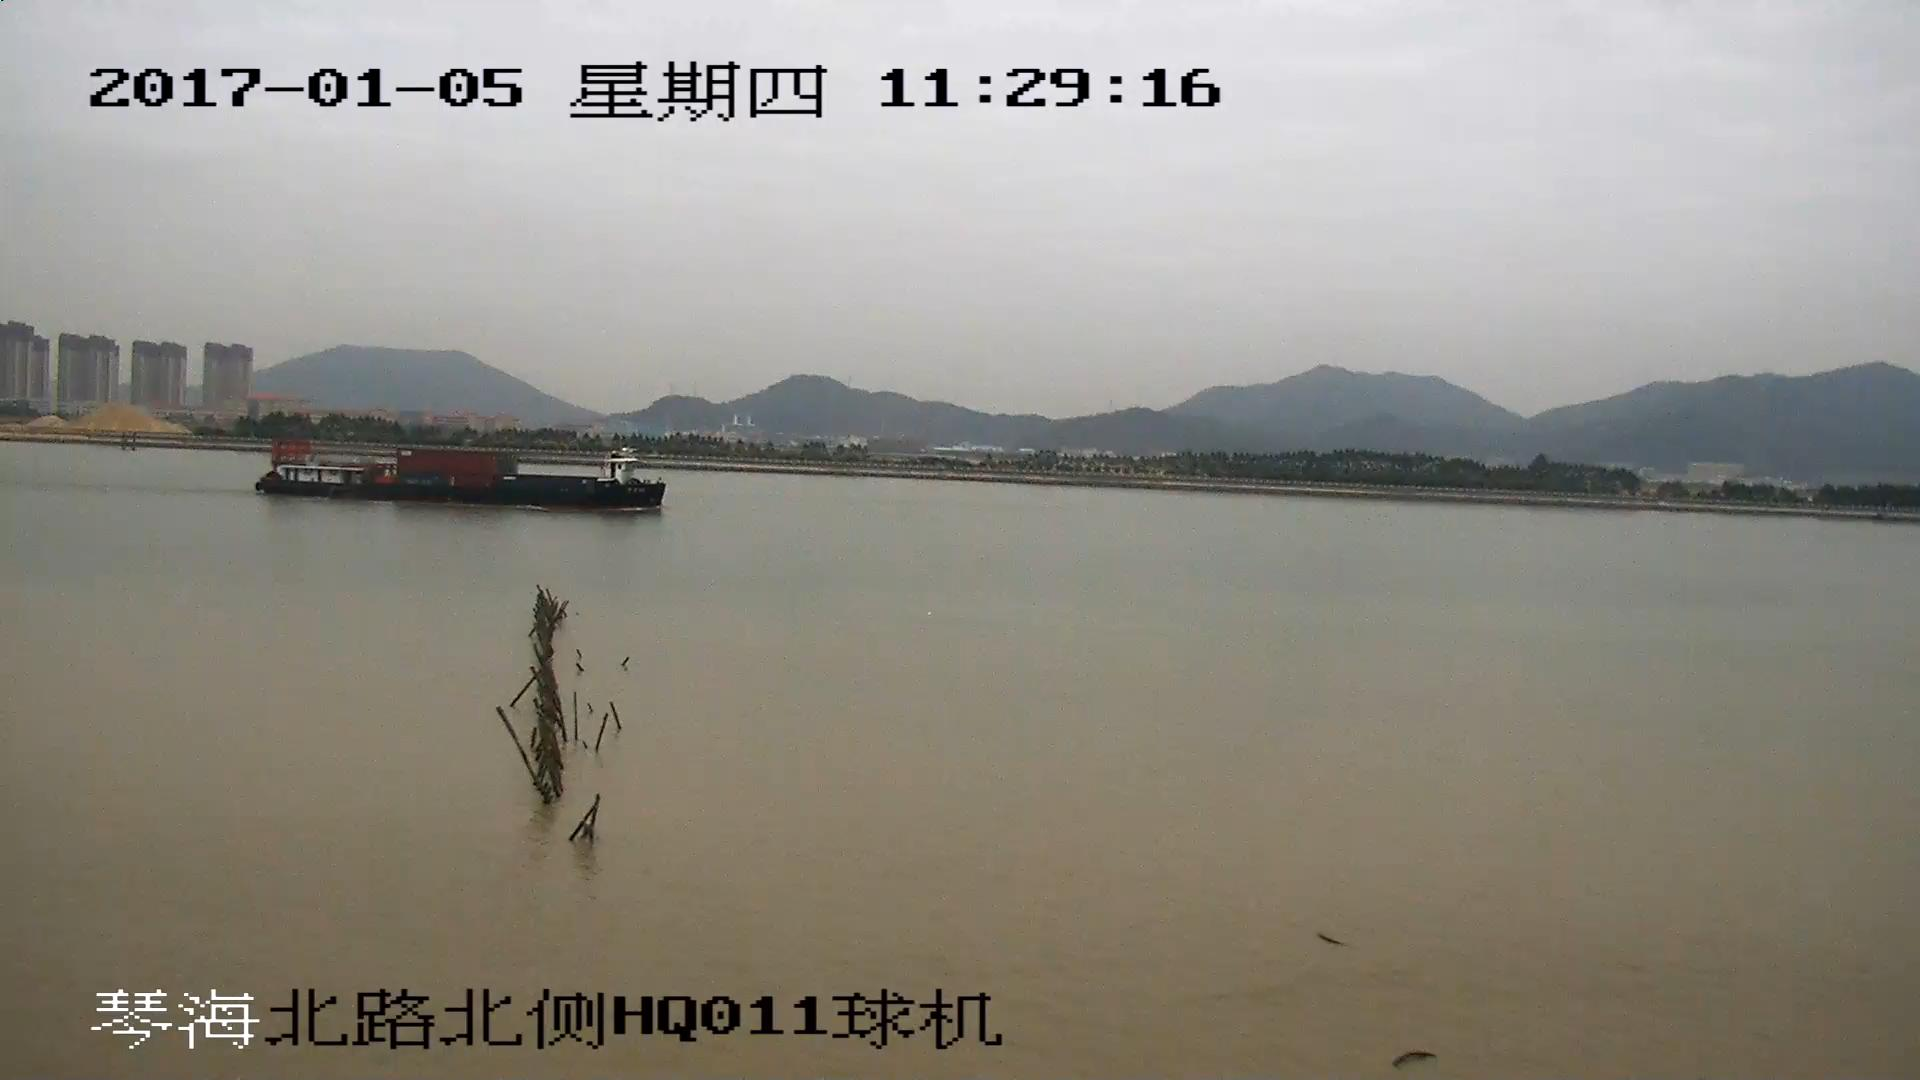container ship: (256, 437, 664, 511)
